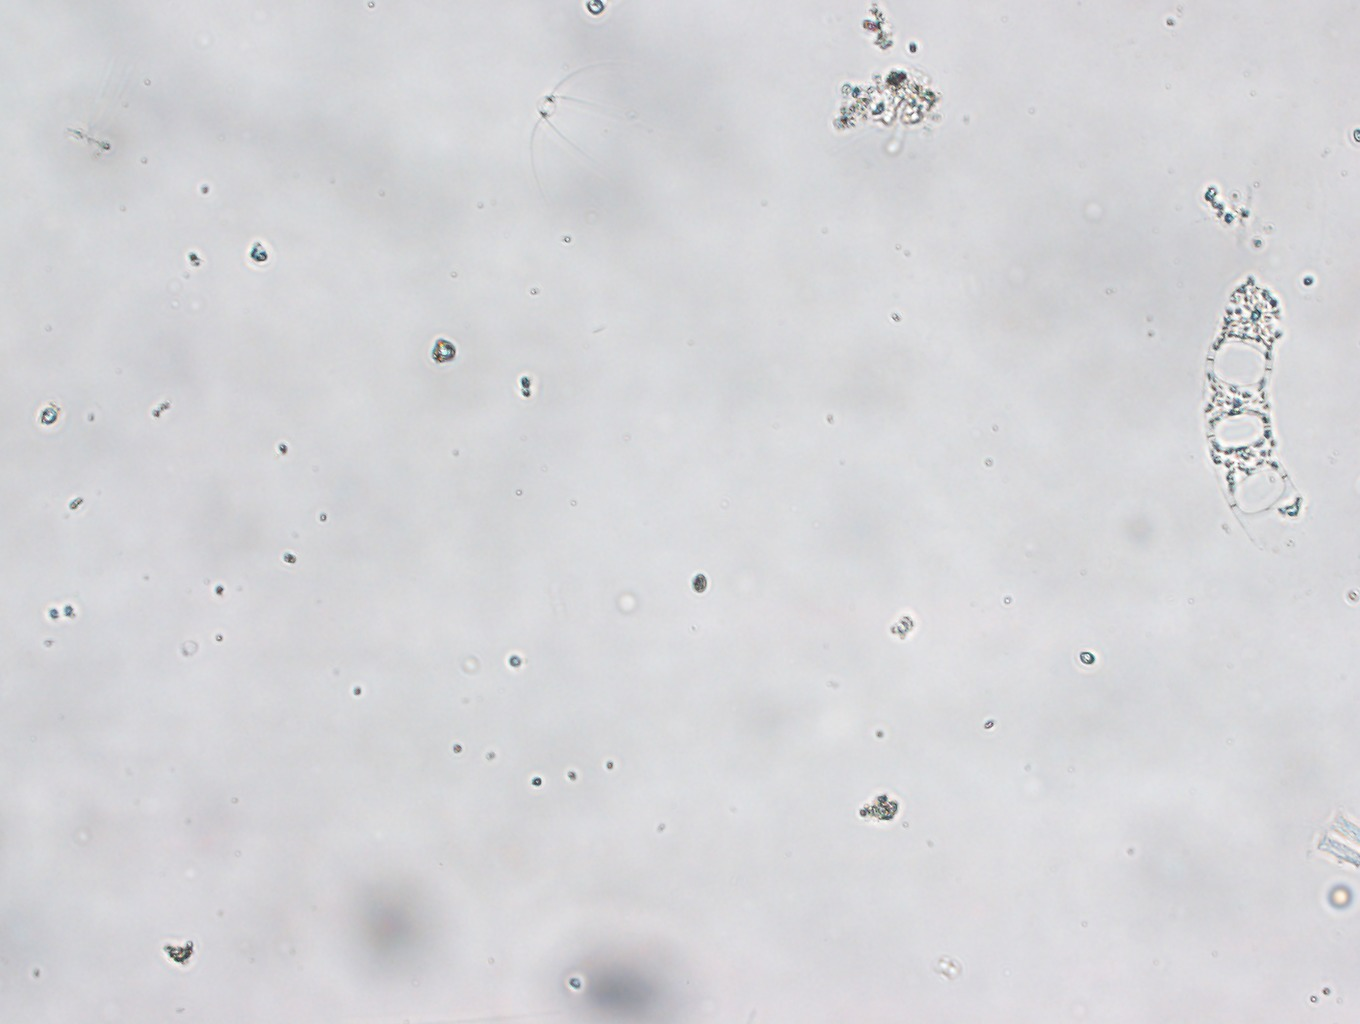eucampia: (1191, 272, 1302, 575)
